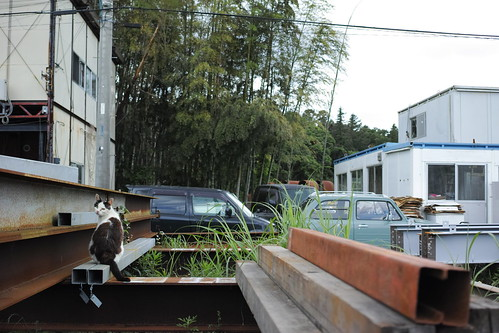animal: (85, 194, 131, 284)
building: (1, 1, 119, 182), (340, 98, 499, 222)
car: (293, 187, 434, 245), (124, 186, 275, 233)
sky: (335, 1, 499, 114)
vegetation: (119, 1, 335, 181)
